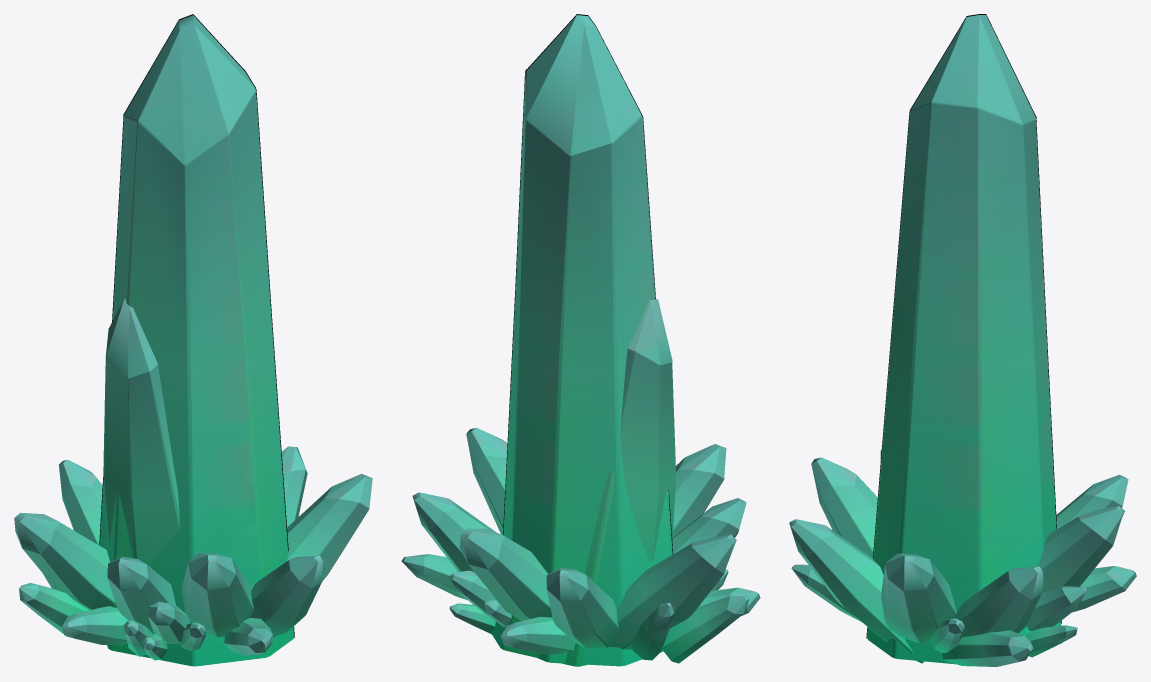
File: Crystal_ClusterSurrounded.glb
The picture shows the model from 3 angles, left to right: view 1: azimuth 30°, elevation 25°; view 2: azimuth 150°, elevation 25°; view 3: azimuth 270°, elevation 25°; orthographic projection.
Visible parts, largest first — view 1: Crystal_ClusterSurrounded; view 2: Crystal_ClusterSurrounded; view 3: Crystal_ClusterSurrounded.
Part boxes in pixels (x1,y1,x2,y2): Crystal_ClusterSurrounded: (14, 14, 372, 666); Crystal_ClusterSurrounded: (401, 14, 760, 666); Crystal_ClusterSurrounded: (789, 14, 1136, 666).
Size of the model in its own units: 8.04 by 14.74 by 7.51.
2 materials, 1 textured.
